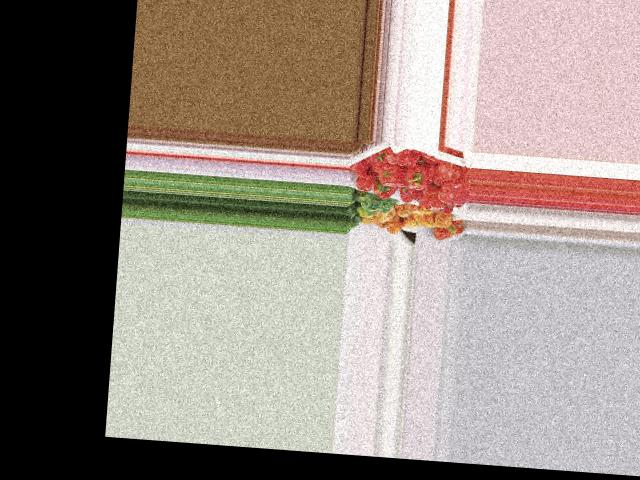bell_pepper: (383, 145, 421, 167)
